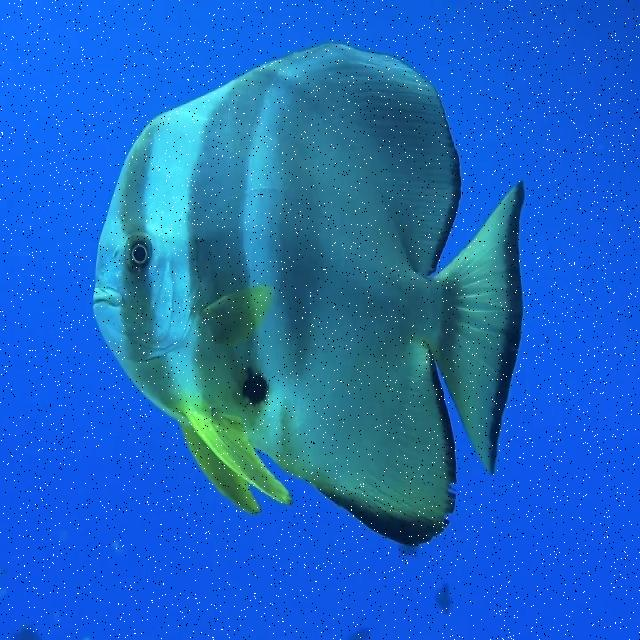fish: (93, 44, 524, 547)
